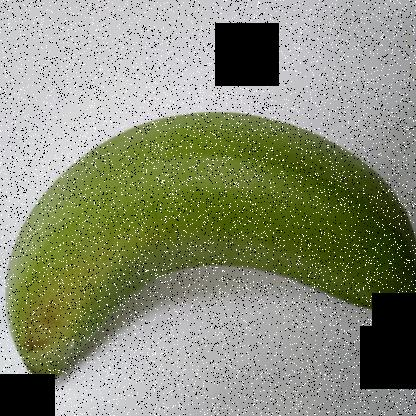freshunripe: (2, 78, 416, 400)
